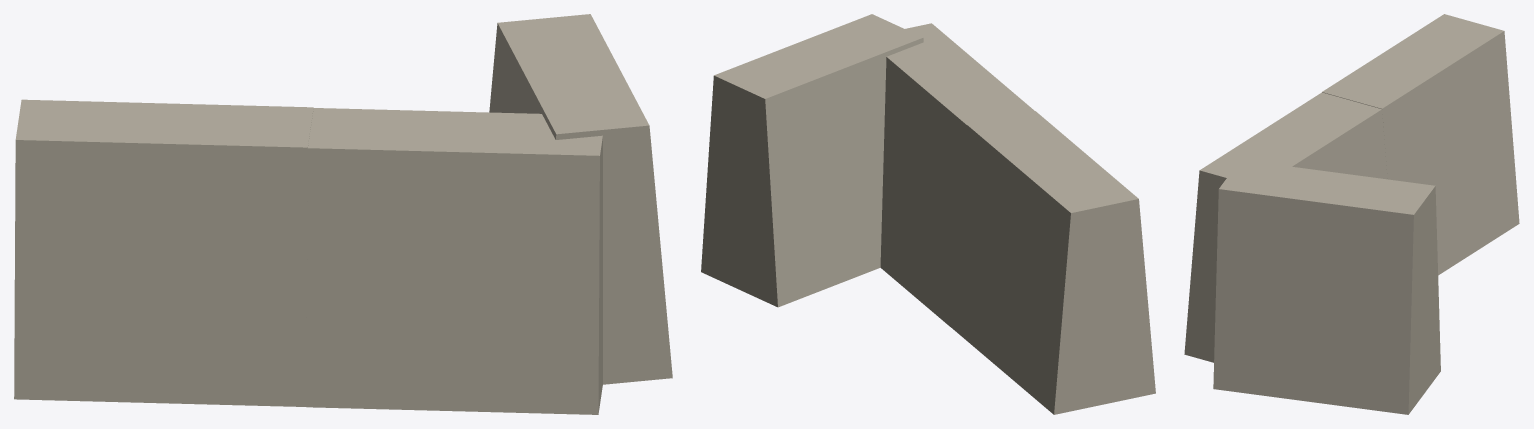
Rendered from kalkara_64_22_far.glb.
3 renders of one model, left to right at view 1: azimuth 30°, elevation 25°; view 2: azimuth 150°, elevation 25°; view 3: azimuth 270°, elevation 25°, orthographic. The views are drawn at different scales.
Visible parts, largest first — view 1: geometry_0; view 2: geometry_0; view 3: geometry_0.
Boxes of the visible parts, x1=… form: geometry_0: x1=14, y1=14, x2=672, y2=414; geometry_0: x1=701, y1=14, x2=1155, y2=414; geometry_0: x1=1184, y1=14, x2=1519, y2=414.
Size of the model in its own units: 28.35 by 11.78 by 18.55.
